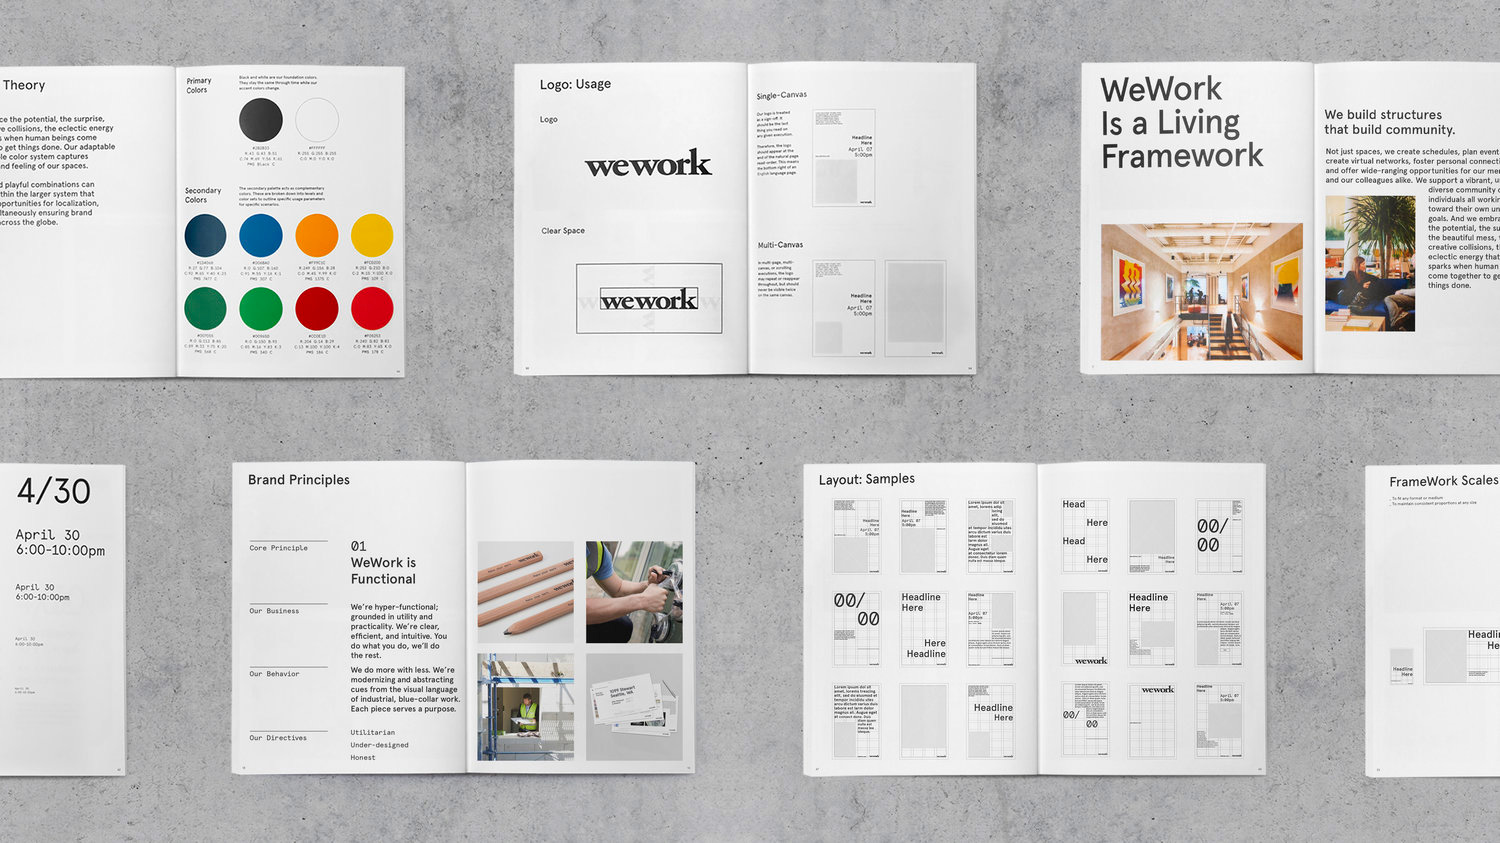wework: (583, 145, 714, 180)
